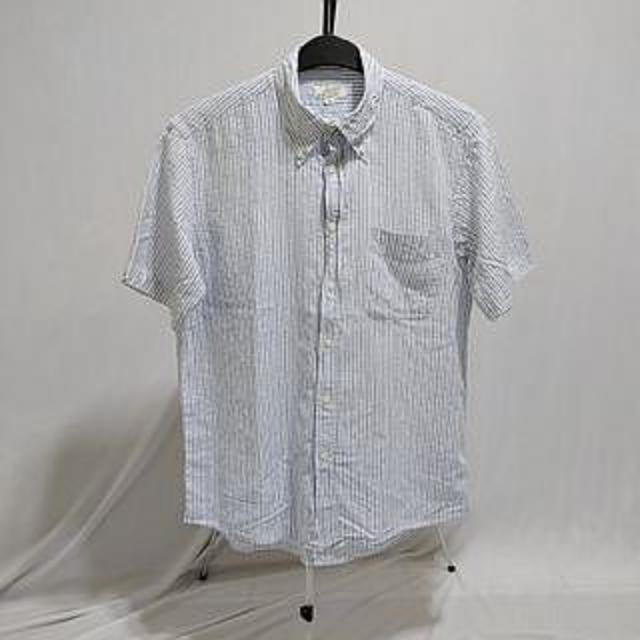SHIRT: (107, 28, 549, 566)
